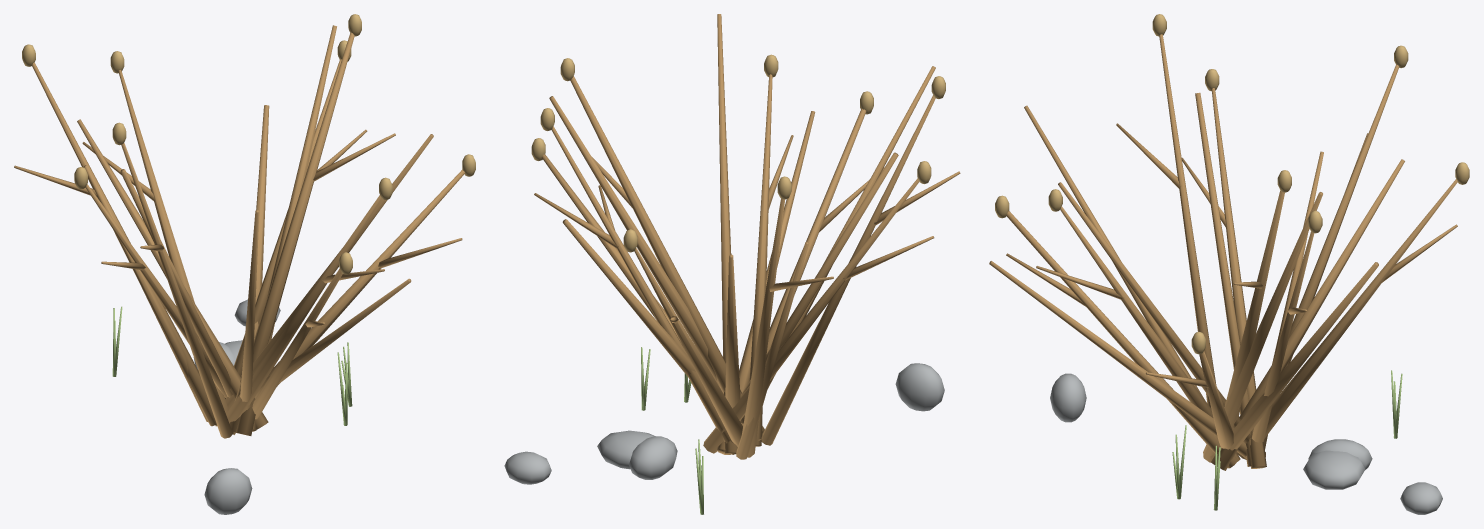
File: dry_bush_a.glb
3 views of the same model, side by side, from view 1: azimuth 30°, elevation 25°; view 2: azimuth 150°, elevation 25°; view 3: azimuth 270°, elevation 25° (orthographic). The views are drawn at different scales.
Parts seen in each view (by area): view 1: dry_bush_a_stem_0, dry_bush_a_stem_10, dry_bush_a_stem_14, dry_bush_a_stem_16, dry_bush_a_stem_1, dry_bush_a_stem_6, dry_bush_a_stem_5, dry_bush_a_stem_4, dry_bush_a_stem_9, dry_bush_ground_rock_2, dry_bush_a_stem_11, dry_bush_a_stem_8 (+7 smaller); view 2: dry_bush_a_stem_0, dry_bush_a_stem_10, dry_bush_a_stem_1, dry_bush_a_stem_8, dry_bush_a_stem_15, dry_bush_a_stem_2, dry_bush_a_stem_14, dry_bush_a_stem_6, dry_bush_a_stem_4, dry_bush_a_stem_3, dry_bush_a_stem_9, dry_bush_ground_rock_2 (+11 smaller); view 3: dry_bush_a_stem_4, dry_bush_a_stem_5, dry_bush_a_stem_13, dry_bush_a_stem_8, dry_bush_a_stem_1, dry_bush_a_stem_10, dry_bush_a_stem_9, dry_bush_a_stem_3, dry_bush_a_stem_12, dry_bush_a_stem_6, dry_bush_a_stem_14, dry_bush_a_stem_15 (+9 smaller).
Part boxes in pixels (x1=…): dry_bush_a_stem_0: x1=229, y1=32, x2=354, y2=432; dry_bush_a_stem_10: x1=121, y1=143, x2=233, y2=438; dry_bush_a_stem_14: x1=226, y1=195, x2=381, y2=423; dry_bush_a_stem_16: x1=232, y1=169, x2=464, y2=434; dry_bush_a_stem_1: x1=234, y1=25, x2=336, y2=435; dry_bush_a_stem_6: x1=32, y1=62, x2=216, y2=426; dry_bush_a_stem_5: x1=77, y1=119, x2=268, y2=429; dry_bush_a_stem_4: x1=118, y1=70, x2=228, y2=426; dry_bush_a_stem_9: x1=120, y1=169, x2=232, y2=397; dry_bush_ground_rock_2: x1=204, y1=468, x2=252, y2=514; dry_bush_a_stem_11: x1=240, y1=209, x2=259, y2=409; dry_bush_a_stem_8: x1=85, y1=184, x2=227, y2=398; dry_bush_a_stem_0: x1=570, y1=76, x2=762, y2=436; dry_bush_a_stem_10: x1=761, y1=95, x2=935, y2=445; dry_bush_a_stem_1: x1=549, y1=96, x2=764, y2=432; dry_bush_a_stem_8: x1=703, y1=178, x2=919, y2=453; dry_bush_a_stem_15: x1=717, y1=14, x2=737, y2=454; dry_bush_a_stem_2: x1=551, y1=126, x2=736, y2=454; dry_bush_a_stem_14: x1=749, y1=74, x2=772, y2=446; dry_bush_a_stem_6: x1=742, y1=198, x2=784, y2=457; dry_bush_a_stem_4: x1=634, y1=248, x2=742, y2=446; dry_bush_a_stem_3: x1=562, y1=219, x2=695, y2=377; dry_bush_a_stem_9: x1=740, y1=152, x2=898, y2=396; dry_bush_ground_rock_2: x1=895, y1=363, x2=944, y2=411; dry_bush_a_stem_4: x1=1237, y1=179, x2=1457, y2=459; dry_bush_a_stem_5: x1=1211, y1=159, x2=1404, y2=470; dry_bush_a_stem_13: x1=989, y1=261, x2=1265, y2=458; dry_bush_a_stem_8: x1=1211, y1=88, x2=1266, y2=468; dry_bush_a_stem_1: x1=1203, y1=192, x2=1322, y2=462; dry_bush_a_stem_10: x1=1159, y1=34, x2=1216, y2=407; dry_bush_a_stem_9: x1=1195, y1=92, x2=1251, y2=466; dry_bush_a_stem_3: x1=1210, y1=262, x2=1378, y2=460; dry_bush_a_stem_12: x1=1006, y1=211, x2=1237, y2=468; dry_bush_a_stem_6: x1=1286, y1=64, x2=1398, y2=366; dry_bush_a_stem_14: x1=1060, y1=206, x2=1213, y2=417; dry_bush_a_stem_15: x1=1058, y1=182, x2=1265, y2=456.
Bounding box in the file's own units: 0.9096 × 0.8243 × 0.9569.
